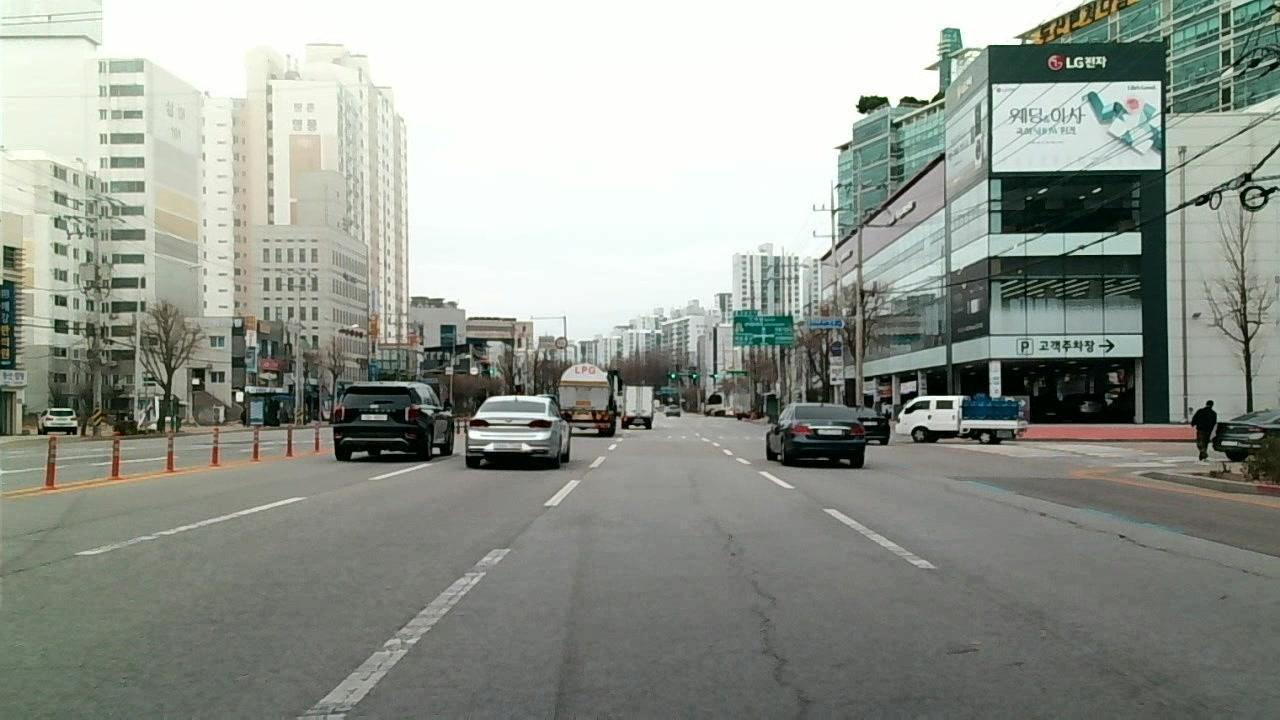banner: (754, 575, 807, 720), (1043, 512, 1162, 550), (1171, 552, 1279, 585), (704, 515, 744, 567), (511, 507, 550, 547), (967, 491, 1028, 512)
